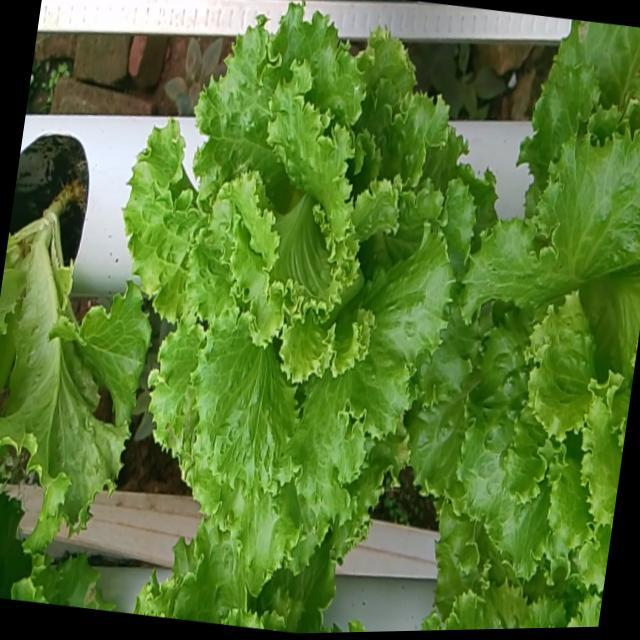Mature: (133, 0, 486, 563), (417, 116, 640, 571)
